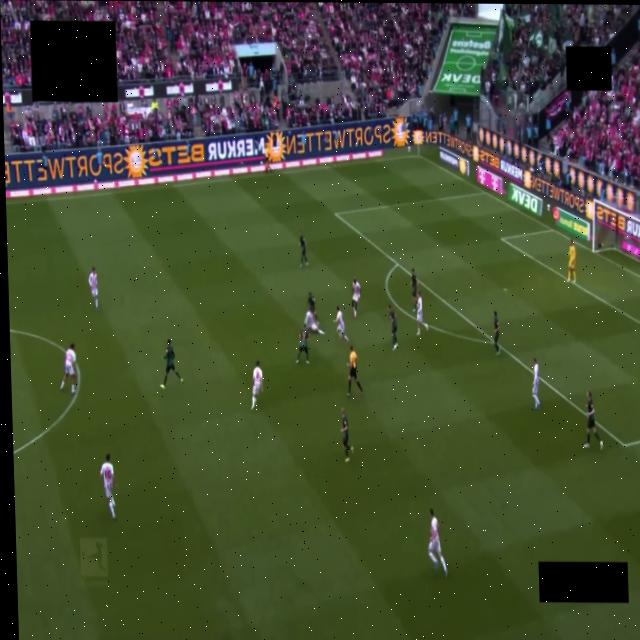player: (428, 508, 446, 576), (159, 339, 182, 389), (584, 390, 602, 449), (100, 454, 114, 519), (59, 344, 76, 393), (415, 291, 429, 335), (341, 408, 352, 461), (251, 361, 262, 409), (334, 307, 349, 342), (303, 310, 323, 334), (88, 267, 98, 312), (387, 305, 397, 350), (296, 327, 308, 363), (531, 358, 539, 410), (410, 268, 418, 311), (567, 239, 575, 282), (352, 278, 360, 320), (299, 233, 307, 267), (493, 311, 499, 355), (307, 292, 316, 321)
referee: (347, 347, 362, 396)
